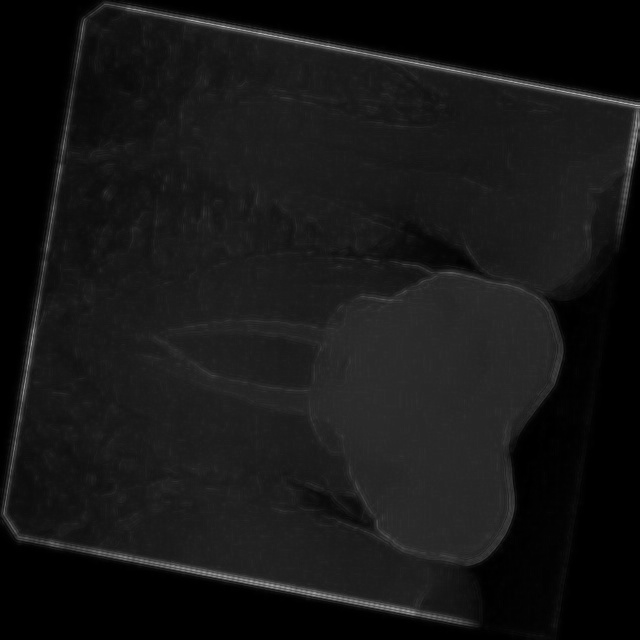Class 1- complete endodontic treatment: (29, 187, 582, 578)
cavity: (138, 17, 612, 287)
